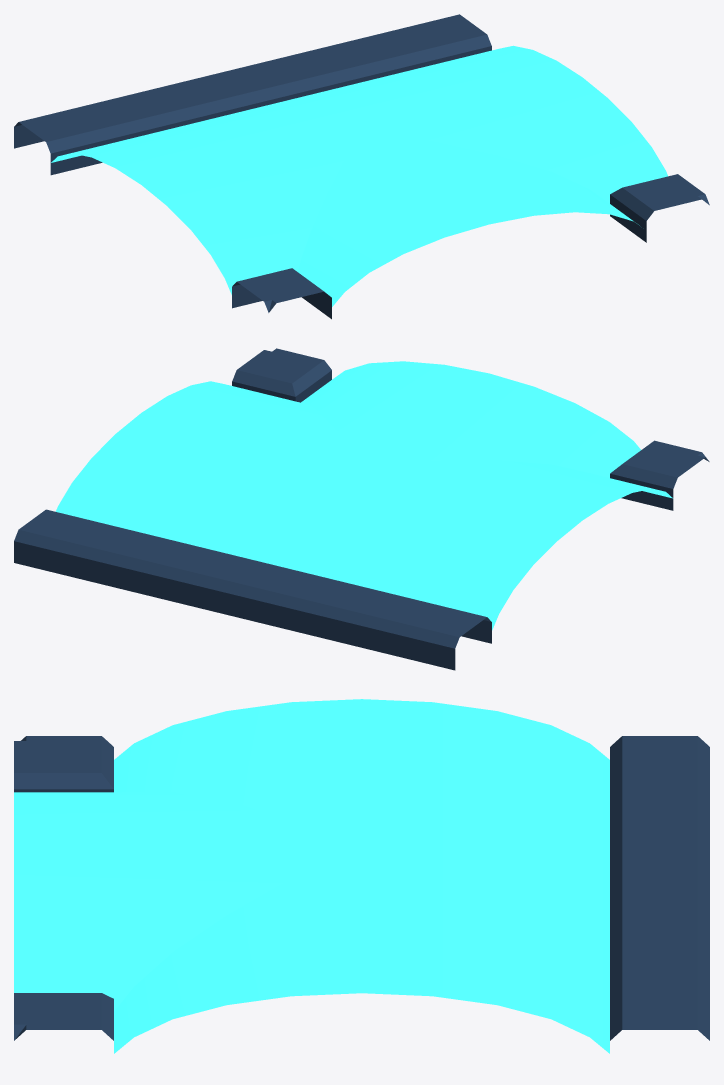
File: Light_Trim_01_SquareShortCrossT.fbx
3 views of the same model, one above another, from view 1: azimuth 30°, elevation 25°; view 2: azimuth 150°, elevation 25°; view 3: azimuth 270°, elevation 25° (orthographic). The views are drawn at different scales.
Visible parts, largest first — view 1: Light_Trim_01_SquareShortCrossT.001; view 2: Light_Trim_01_SquareShortCrossT.001; view 3: Light_Trim_01_SquareShortCrossT.001.
Boxes of the visible parts, x1=… form: Light_Trim_01_SquareShortCrossT.001: x1=14, y1=14, x2=709, y2=319; Light_Trim_01_SquareShortCrossT.001: x1=14, y1=348, x2=709, y2=670; Light_Trim_01_SquareShortCrossT.001: x1=14, y1=699, x2=709, y2=1053.
Bounding box in the file's own units: 0.1 × 0.0123 × 0.1.
